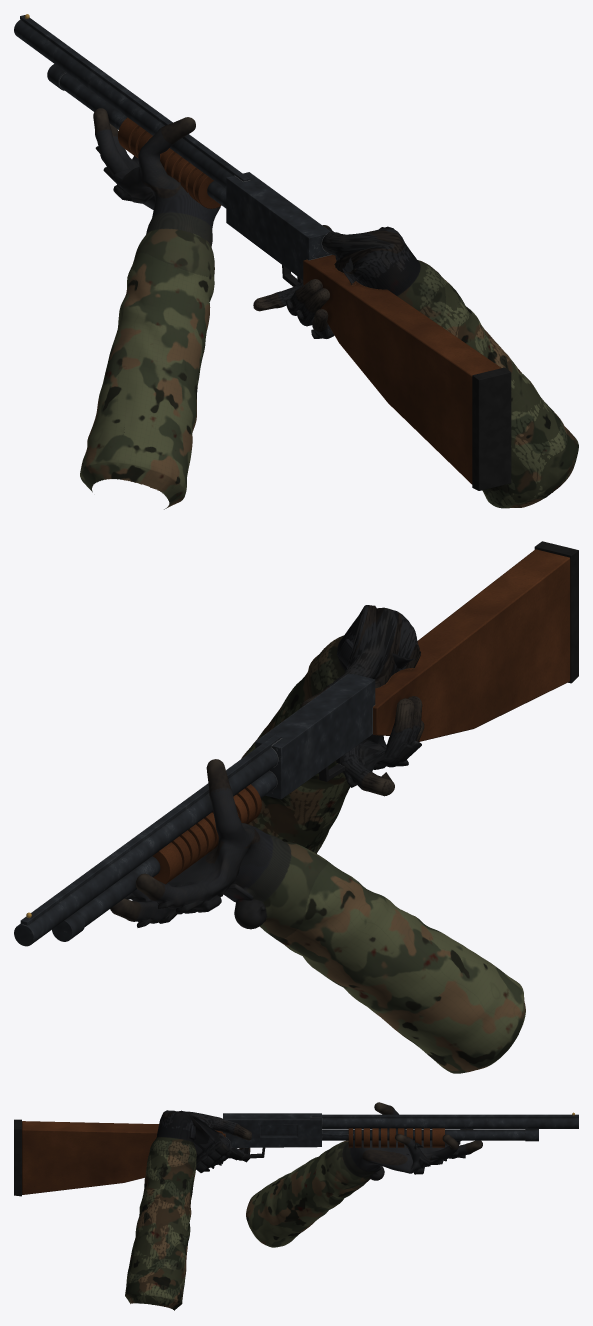
File: remington.gltf
3 views of the same model, one above another, from view 1: azimuth 30°, elevation 25°; view 2: azimuth 150°, elevation 25°; view 3: azimuth 270°, elevation 25° (orthographic). The views are drawn at different scales.
Visible parts, largest first — view 1: Body, ArmL, Slide; view 2: Body, ArmL, Slide; view 3: Body, ArmL, Slide.
Boxes of the visible parts, x1,y1,x2,y2 form: Body: [14, 14, 578, 508]; ArmL: [80, 108, 220, 509]; Slide: [118, 117, 221, 208]; Body: [14, 541, 578, 946]; ArmL: [110, 759, 525, 1073]; Slide: [152, 784, 261, 884]; Body: [14, 1110, 578, 1310]; ArmL: [246, 1102, 482, 1247]; Slide: [322, 1128, 444, 1147].
Size of the model in its own units: 0.4912 by 0.3734 by 1.06.
Materials: 2 (2 with a texture image).
